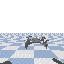drone: (24, 36, 49, 49)
